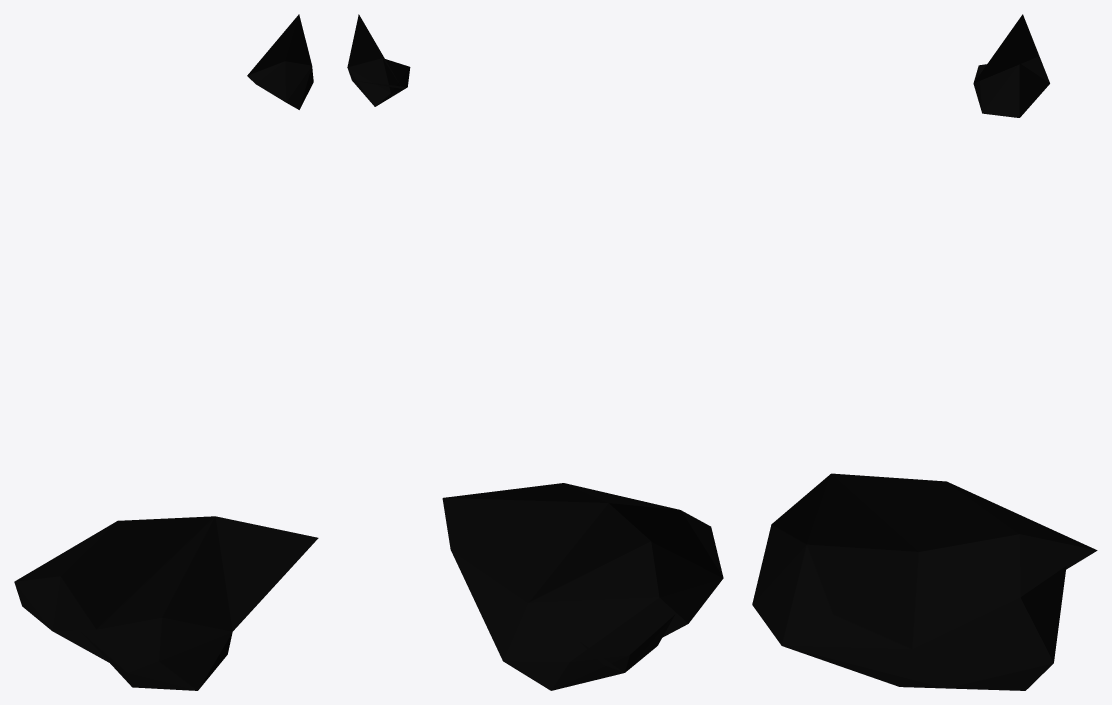
3 renders of one model, left to right at view 1: azimuth 30°, elevation 25°; view 2: azimuth 150°, elevation 25°; view 3: azimuth 270°, elevation 25°, orthographic. The views are drawn at different scales.
Bounding box in the file's own units: 0.5498 × 1.06 × 0.4231.
Materials: 1 (1 with a texture image).
